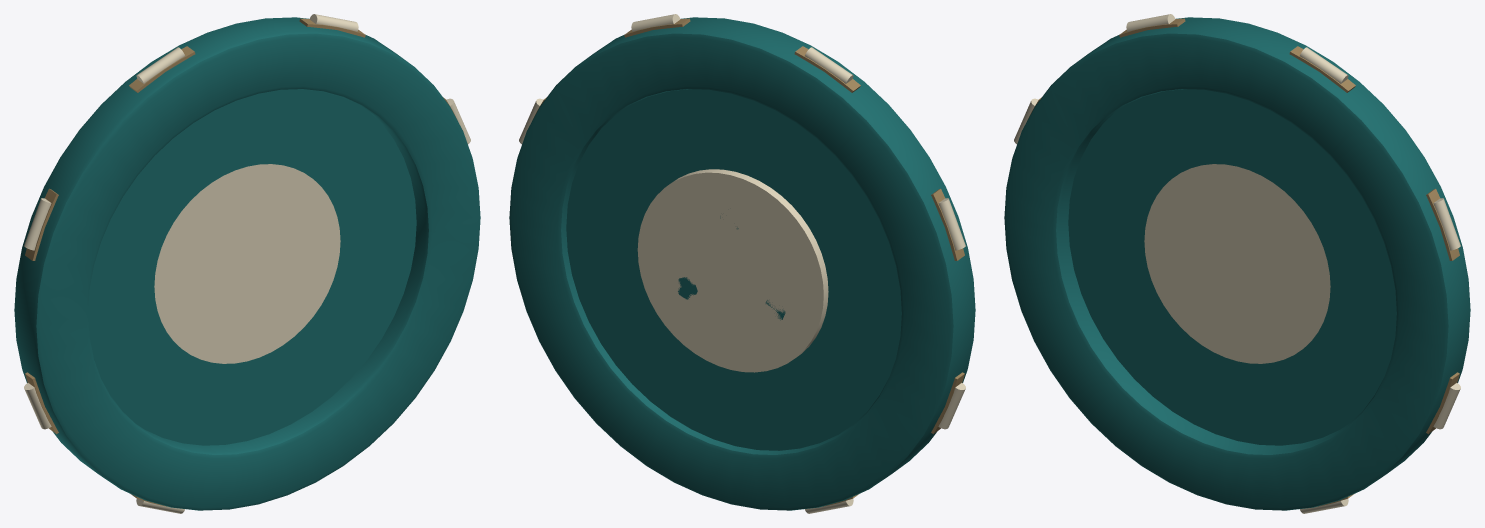
File: k12_lashing_ring.obj
3 views of the same model, side by side, from view 1: azimuth 30°, elevation 25°; view 2: azimuth 150°, elevation 25°; view 3: azimuth 330°, elevation 25° (orthographic).
Visible parts, largest first — view 1: k12_lashing_ring; view 2: k12_lashing_ring; view 3: k12_lashing_ring.
Boxes of the visible parts, x1,y1,x2,y2 form: k12_lashing_ring: (14, 14, 480, 513); k12_lashing_ring: (509, 14, 975, 513); k12_lashing_ring: (1004, 14, 1470, 513).
Bounding box in the file's own units: 2.1 × 2.1 × 0.1905.
